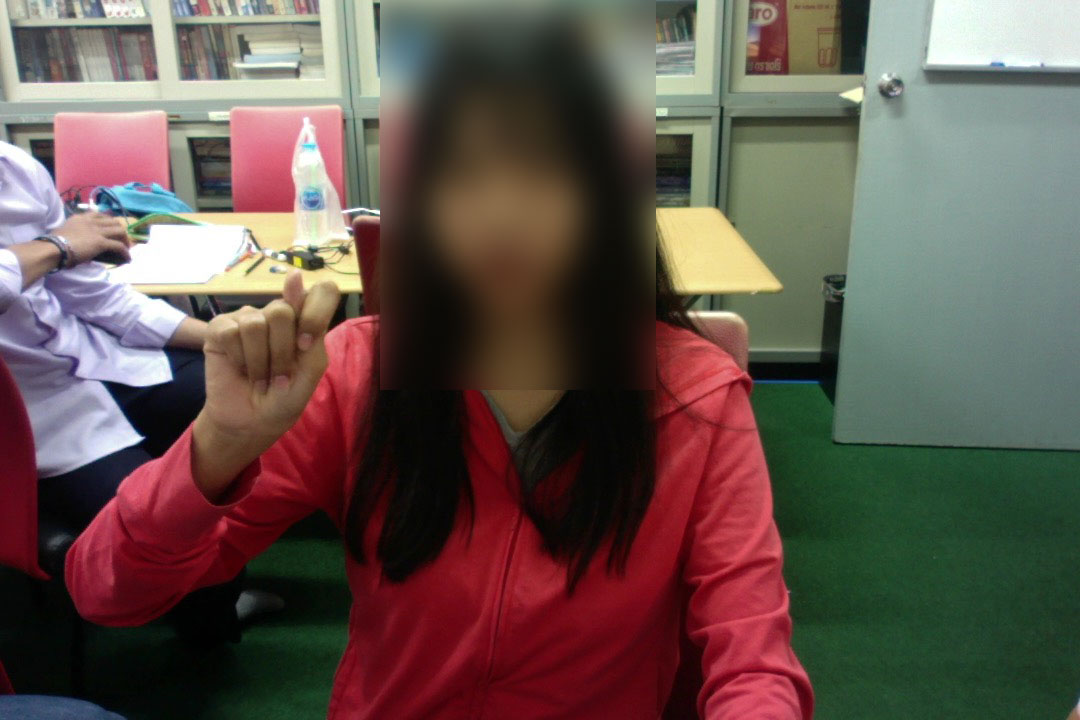tor: (189, 272, 347, 448)
